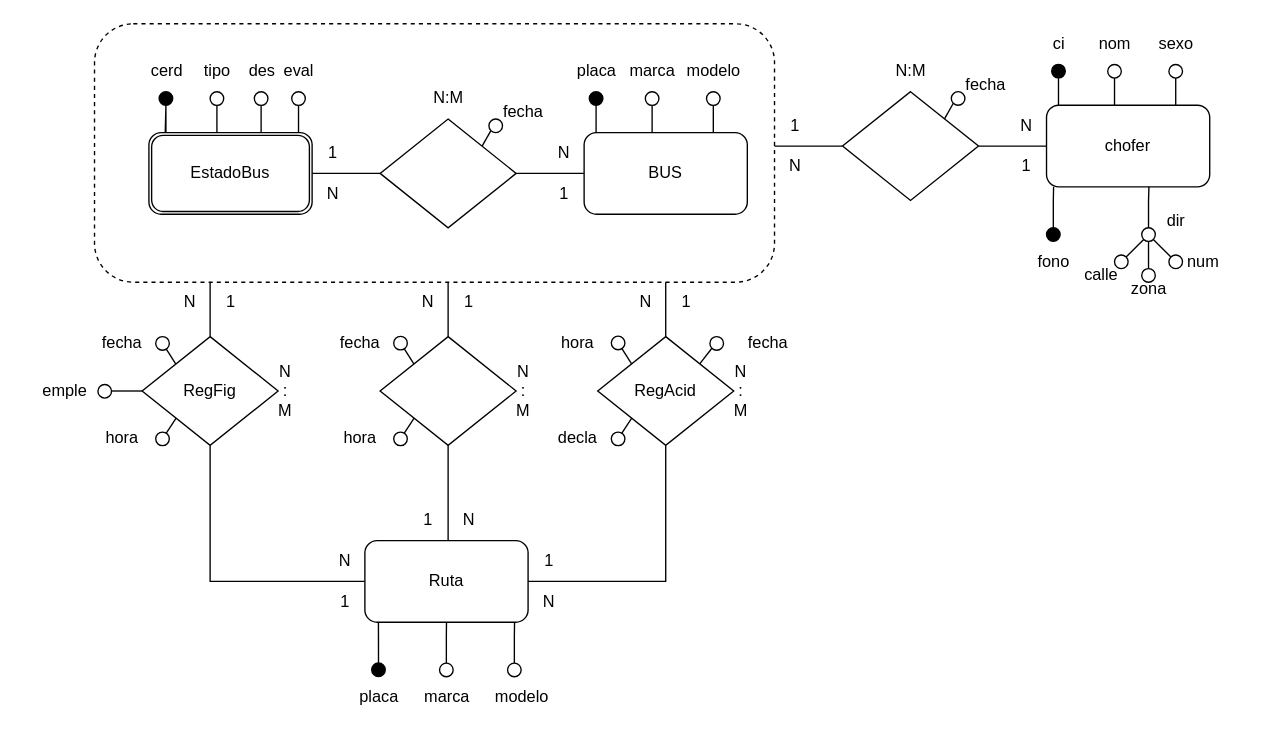
This 1261x741 diagram has some shape labels left out. Each missing label, with the centre of its shape:
conduce: the point at 910,145
RegPlan: the point at 447,390
tiene: the point at 447,173
